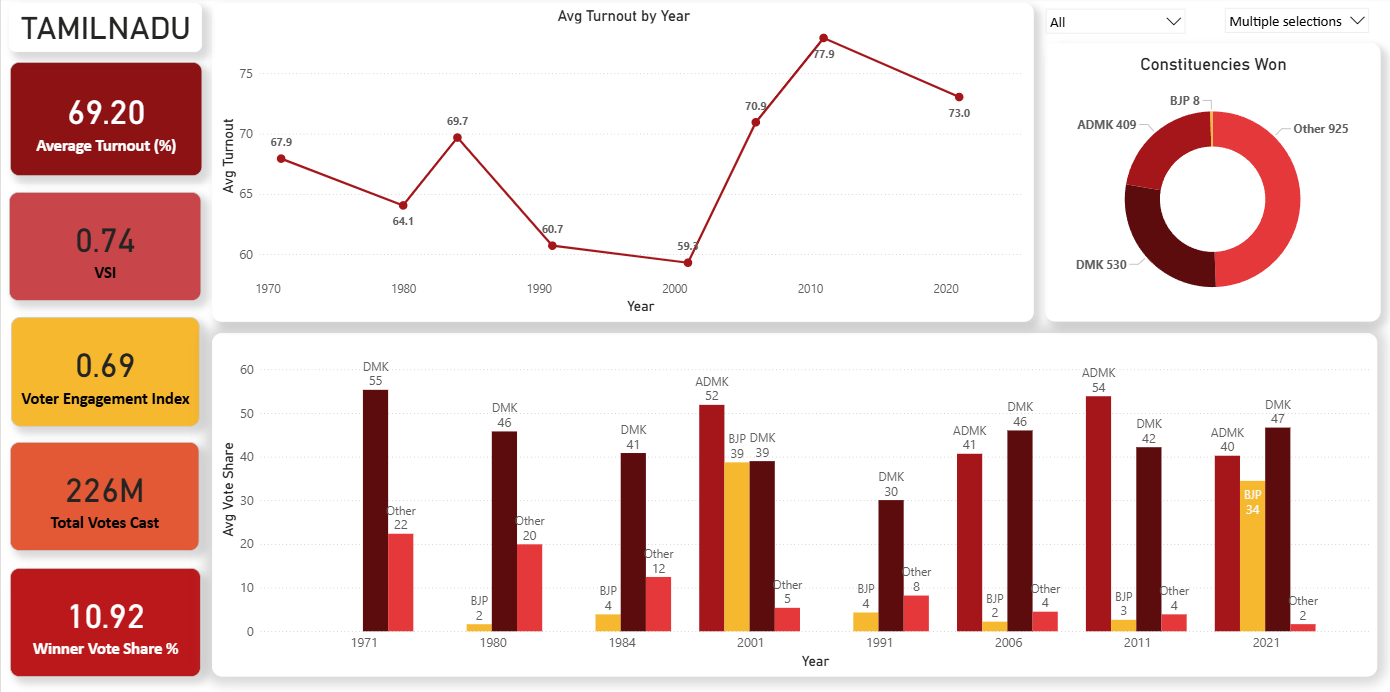

This screenshot's page, from the dashboard's own definition file:
{"tool":"powerbi","page":{"name":"Page 1","canvas":[1900,950],"ordinal":0},"visuals":[{"type":"slicer","fields":{"Values":["public tn_election.Party"]},"box":[1412.9,0,222.9,62.9],"z":0,"group":"g2"},{"type":"group","id":"g1","title":"Group 1","box":[11.4,88.6,264.3,841.4],"z":0},{"type":"card","fields":{"Values":["public tn_election.Average Turnout (%)"]},"box":[12.4,88.6,263.2,155.7],"z":0,"group":"g1"},{"type":"slicer","fields":{"Values":["public tn_election.Year"]},"box":[1658.6,0,227.1,62.9],"z":1000,"group":"g2"},{"type":"clusteredColumnChart","fields":{"Category":["public tn_election.Year"],"Y":["public tn_election.Avg Vote Share"],"Series":["public tn_election.Major Party Category"]},"box":[288.6,460,1594.3,470],"z":1000},{"type":"card","fields":{"Values":["public tn_election.Winner Vote Share %"]},"box":[12.5,780.7,261.1,149.3],"z":1000,"group":"g1"},{"type":"group","id":"g2","title":"Group 2","box":[1412.9,0,472.9,62.9],"z":2000},{"type":"card","fields":{"Values":["public tn_election.Voter Engagement Index"]},"box":[14.4,437.2,258,150.4],"z":2000,"group":"g1"},{"type":"donutChart","title":"Constituencies Won","fields":{"Y":["public tn_election.Total Wins"],"Category":["public tn_election.Major Party Category"]},"box":[1428.6,62.9,458.6,381.4],"z":3000},{"type":"card","fields":{"Values":["public tn_election.Total Votes Cast"]},"box":[13.4,609,259,149.3],"z":3000,"group":"g1"},{"type":"lineChart","fields":{"Category":["public tn_election.Year"],"Y":["public tn_election.Avg Turnout"]},"box":[288.6,8.6,1124.3,435.7],"z":4000},{"type":"card","fields":{"Values":["public tn_election.VSI"]},"box":[11.4,266.6,263.2,149.3],"z":4000,"group":"g1"},{"type":"textbox","box":[11.4,8.6,264.3,67.1],"z":4001}]}

Visuals, with their boxes in screenshot pixels (x1, y1, x2, y2), scaled from the page's 1900x950 canvas onto the 1390x692 screenshot:
slicer - public tn_election.Party: select_region(1034, 0, 1197, 46)
"Group 1" group: select_region(8, 65, 202, 677)
card - public tn_election.Average Turnout (%): select_region(9, 65, 202, 178)
slicer - public tn_election.Year: select_region(1213, 0, 1380, 46)
clusteredColumnChart - public tn_election.Year x public tn_election.Avg Vote Share: select_region(211, 335, 1377, 677)
card - public tn_election.Winner Vote Share %: select_region(9, 569, 200, 677)
"Group 2" group: select_region(1034, 0, 1380, 46)
card - public tn_election.Voter Engagement Index: select_region(11, 318, 199, 428)
"Constituencies Won" donutChart: select_region(1045, 46, 1381, 324)
card - public tn_election.Total Votes Cast: select_region(10, 444, 199, 552)
lineChart - public tn_election.Year x public tn_election.Avg Turnout: select_region(211, 6, 1034, 324)
card - public tn_election.VSI: select_region(8, 194, 201, 303)
textbox: select_region(8, 6, 202, 55)
